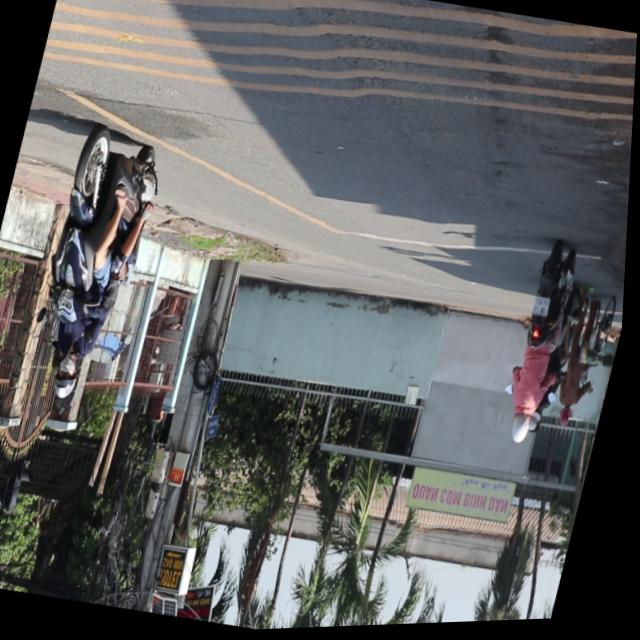helmet: (52, 349, 86, 401), (509, 414, 536, 450)
licenseplate: (17, 115, 174, 411), (497, 243, 587, 452)
nohelmet: (534, 300, 554, 323)
